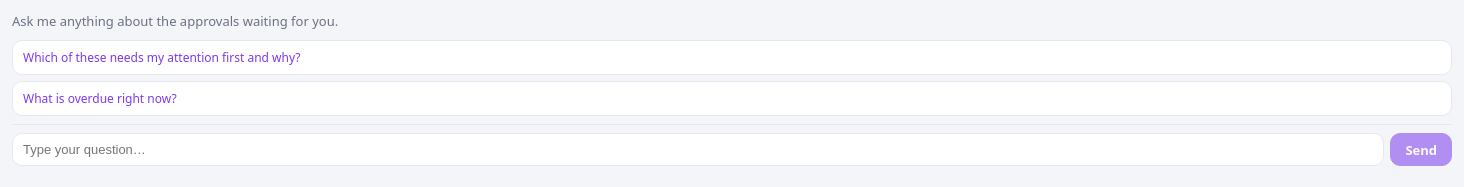
Test: ChatPanel: degraded and error states › labels a deterministic fallback answer so the operator knows it is not AI
Type "Which of these needs my attention first?" into the field named "message the assistant" at (698, 150), box [12, 133, 1384, 166]
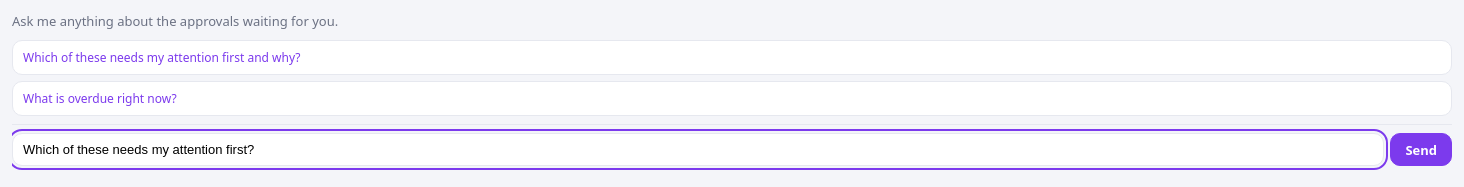
Click the button "Send" at (1421, 150), box [1390, 133, 1452, 166]
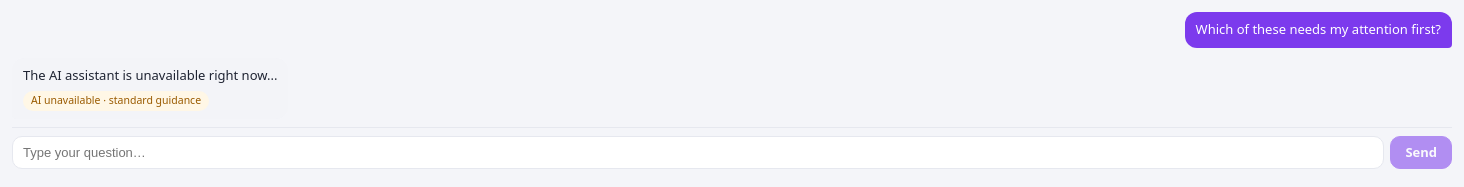
Expected: the text "AI unavailable · standard guidance" is shown, [23, 91, 209, 111]
